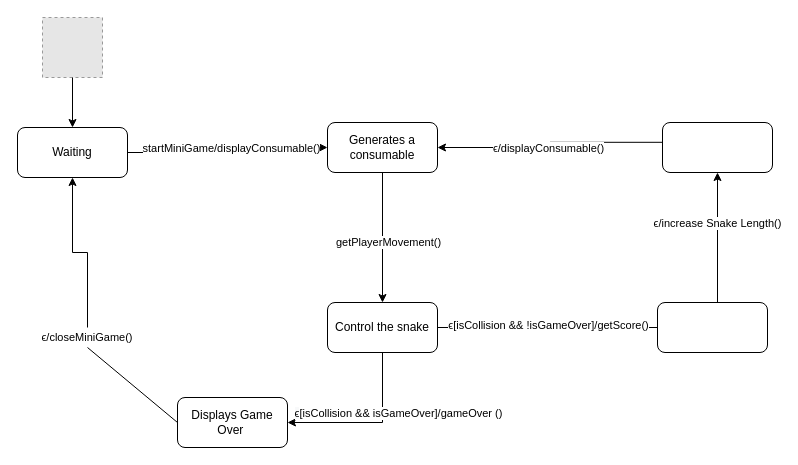
Some shapes in this 798 by 465 pixel diagram are drawn without their labels. Grey dashed boxes stand in for pictures. Here are the shapes that lost their labels. From the top down, the centre of each, then its label:
(717,147): Update snake length
(712,327): Update Score
